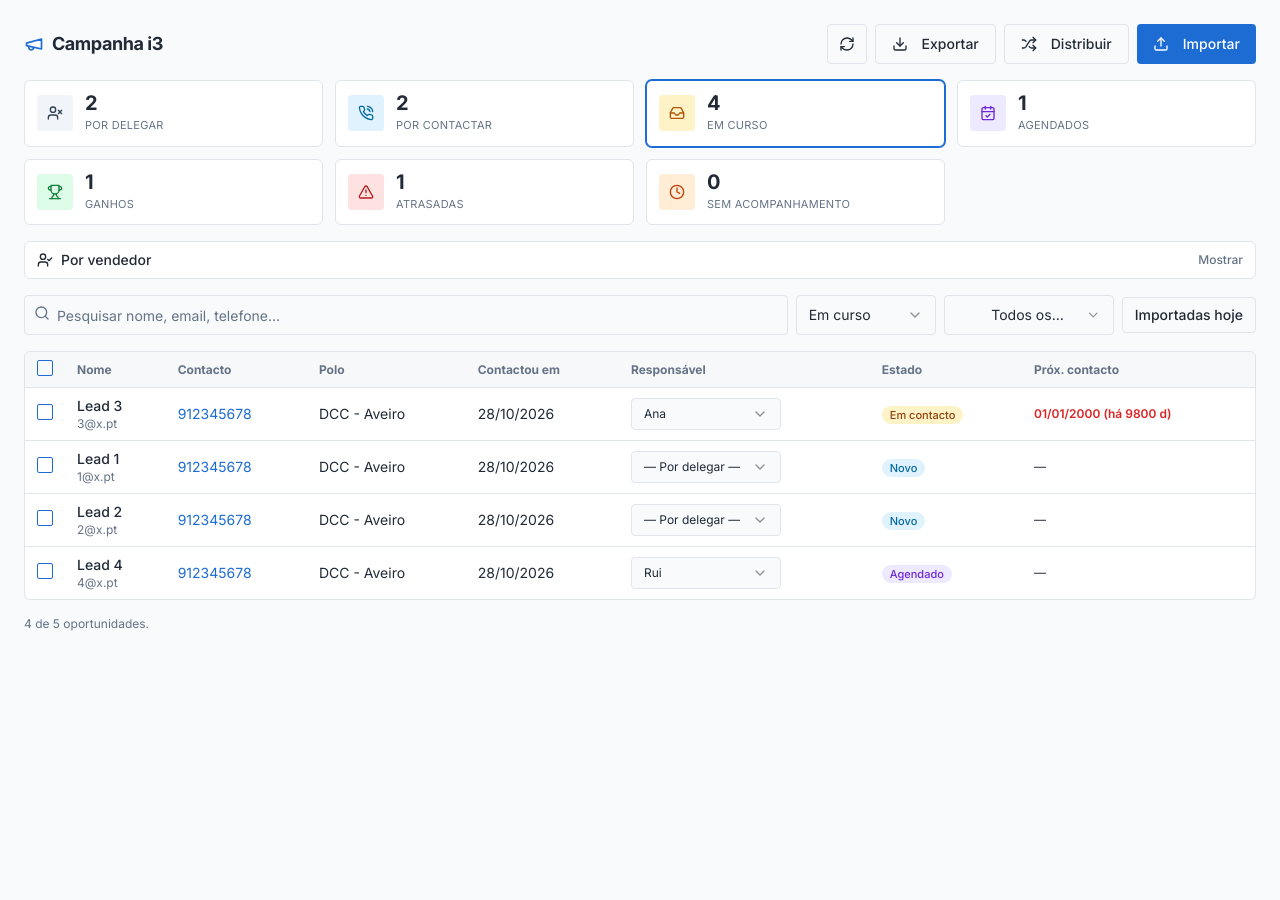
Test: Campanha i3 — administrador › mostra o resumo por vendedor
The image size is (1280, 900).
Expected: the text "Lead 1" is shown, 77,450 -> 119,467
Click the button "Por vendedor Mostrar".
click(106, 260)  # box 25,242 -> 1255,278
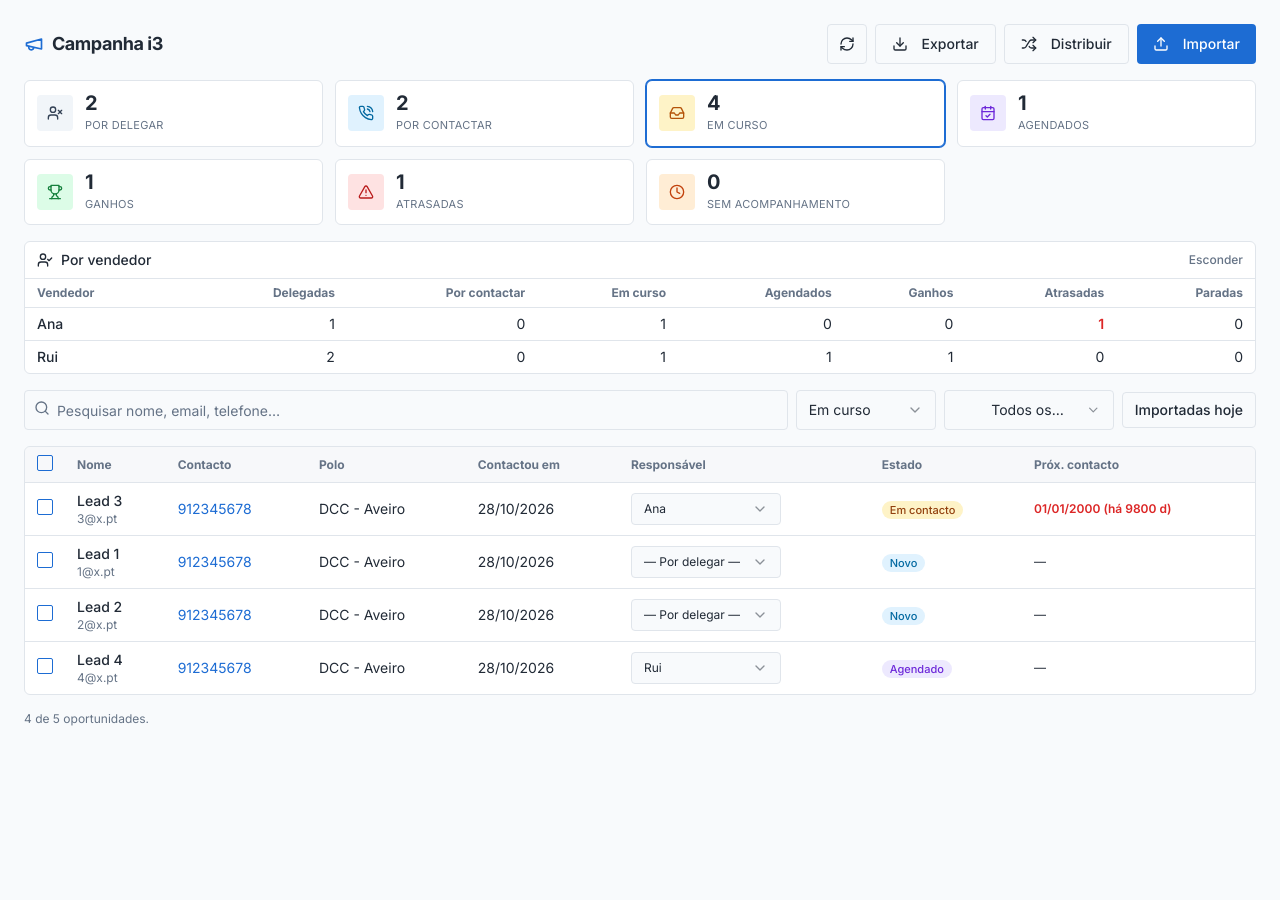
Result: the text "Ana" below "Delegadas" is shown at 37,315 -> 63,332
Result: the text "Rui" below "Delegadas" is shown at 37,348 -> 58,365
